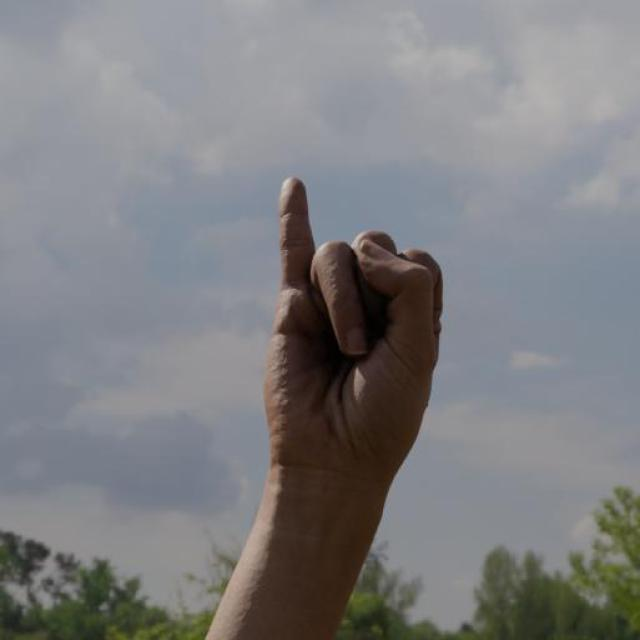I: (262, 170, 444, 494)
